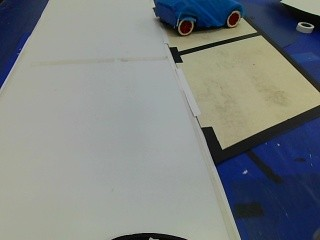car: (151, 0, 243, 36)
